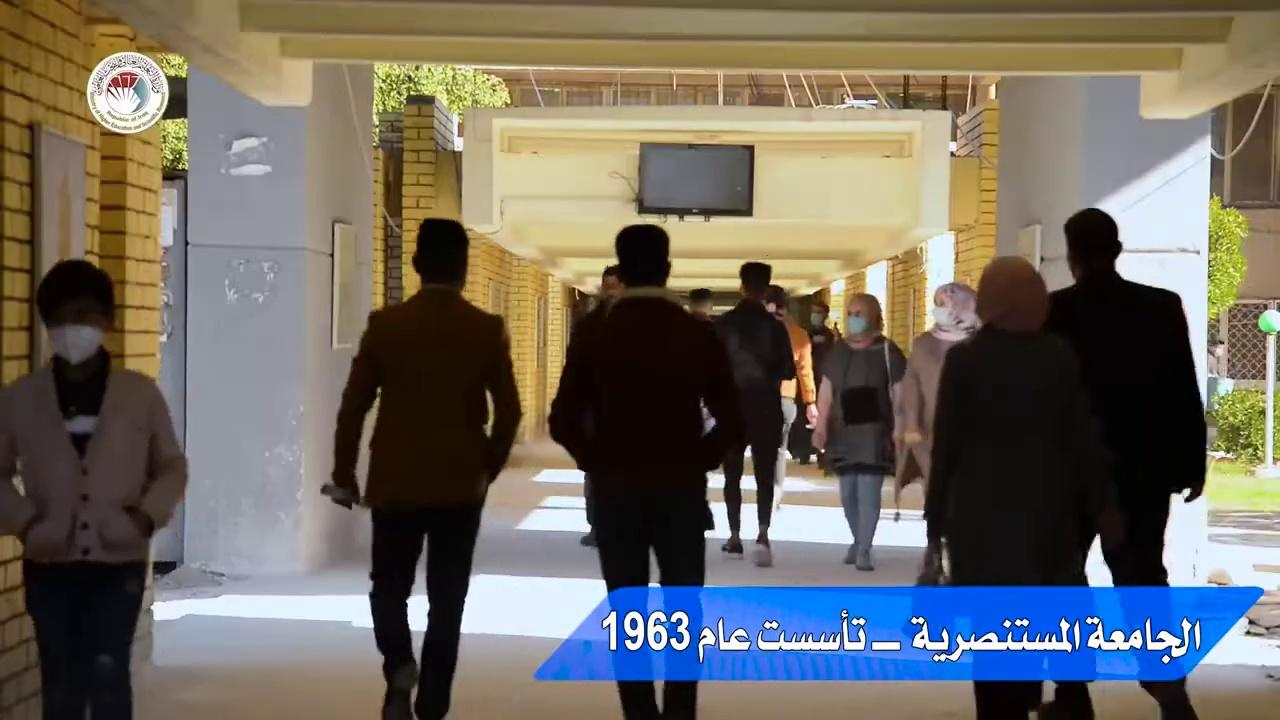person: (547, 223, 746, 719), (327, 216, 523, 719), (1038, 207, 1208, 719), (0, 258, 188, 719), (921, 254, 1101, 719), (892, 282, 983, 585), (810, 292, 907, 571), (712, 261, 796, 566), (571, 264, 624, 547)
tree: (371, 61, 512, 143), (1206, 384, 1279, 472), (1207, 192, 1249, 321), (159, 116, 188, 173)
